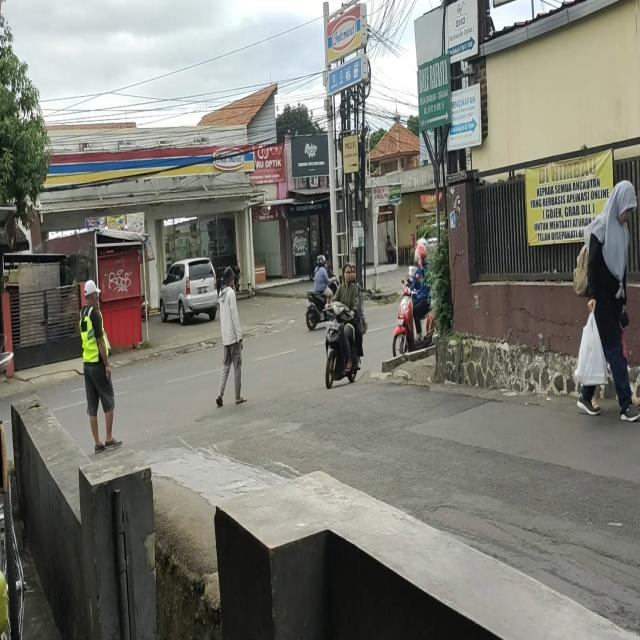helmet: (416, 244, 428, 268), (318, 254, 327, 268)
no-helmet: (341, 262, 352, 282), (349, 263, 356, 283)
